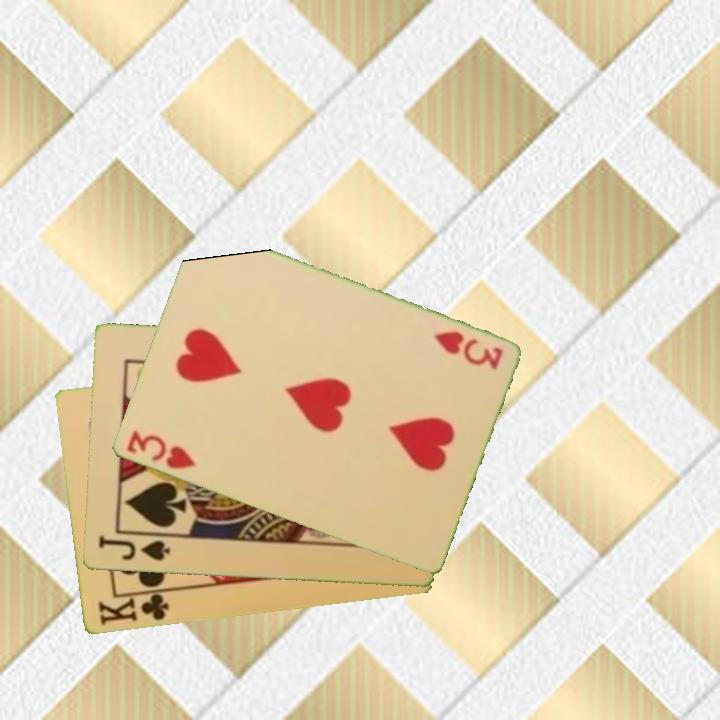3h: (122, 427, 199, 473), (429, 327, 506, 373)
Js: (94, 532, 173, 564)
Kc: (94, 587, 172, 629)
